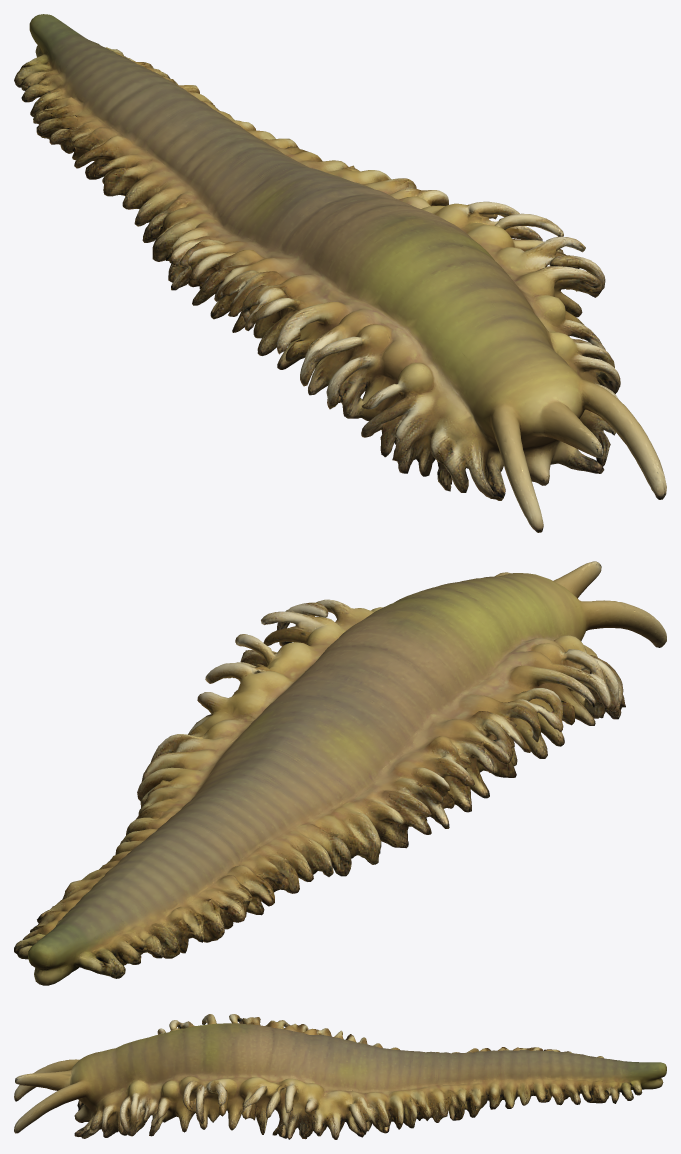
The picture shows the model from 3 angles, top to bottom: view 1: azimuth 30°, elevation 25°; view 2: azimuth 150°, elevation 25°; view 3: azimuth 270°, elevation 25°; orthographic projection. The views are drawn at different scales.
Visible parts, largest first — view 1: world; view 2: world; view 3: world.
Boxes of the visible parts, x1,y1,x2,y2 form: world: (14,14,666,532); world: (14,561,666,985); world: (14,1014,666,1139).
Bounding box in the file's own units: 0.011 × 0.00558 × 0.0334.
1 material, 1 textured.
